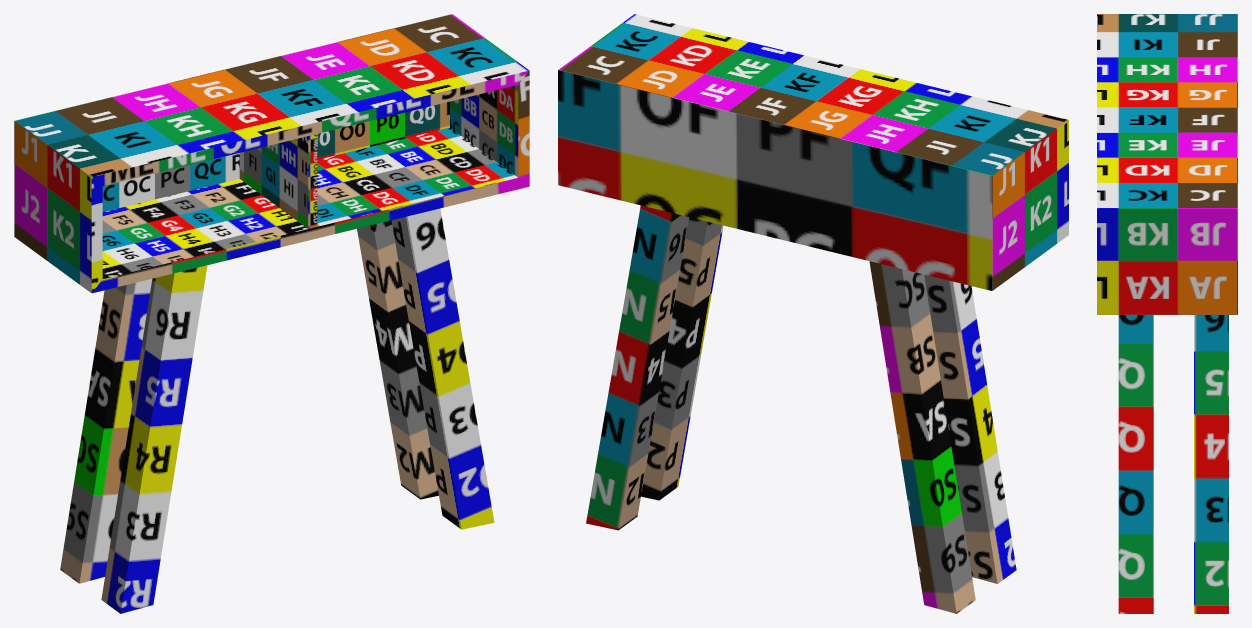
File: table1.FBX
The picture shows the model from 3 angles, left to right: view 1: azimuth 30°, elevation 25°; view 2: azimuth 150°, elevation 25°; view 3: azimuth 270°, elevation 25°; orthographic projection. The views are drawn at different scales.
Parts seen in each view (by area): view 1: table1; view 2: table1; view 3: table1.
Part boxes in pixels (x1=…): table1: x1=14, y1=14, x2=529, y2=613; table1: x1=558, y1=14, x2=1068, y2=613; table1: x1=1097, y1=14, x2=1237, y2=613.
Size of the model in its own units: 1.05 by 1.04 by 0.32.
1 material, 1 textured.
